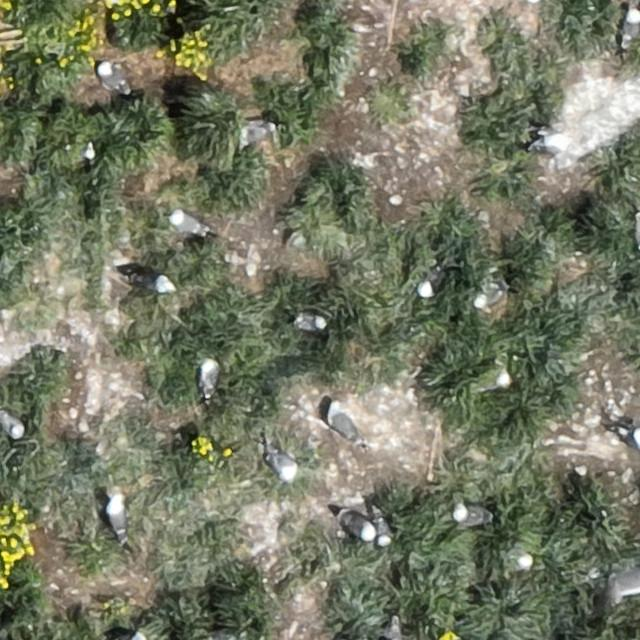umineko: (326, 396, 369, 444), (338, 513, 376, 538), (99, 62, 129, 92), (128, 272, 172, 291), (171, 214, 204, 236), (270, 451, 294, 481), (108, 499, 127, 536), (239, 122, 268, 146), (454, 505, 488, 524), (2, 411, 24, 436), (622, 10, 639, 42), (200, 360, 217, 392), (295, 313, 325, 330), (476, 287, 502, 306), (419, 276, 437, 297), (384, 619, 400, 639), (629, 427, 638, 452)
